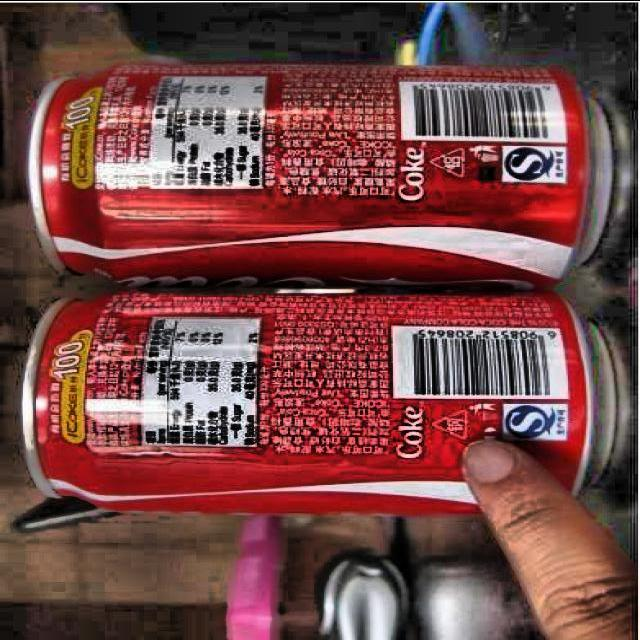Aluminum Can: (13, 285, 620, 517), (29, 60, 609, 286)
